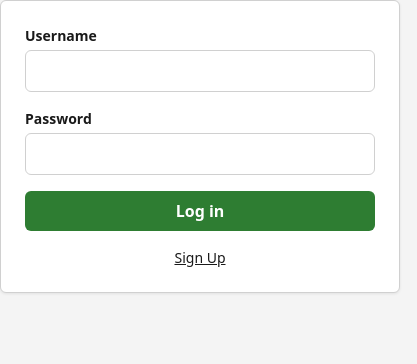
it: LoginForm (Step 13) › errors › on failure: shows the message from a 409 {error} body
The image size is (417, 364).
Type "admin" into the field labelled "Username" at point(200, 71), box [25,50,375,92]
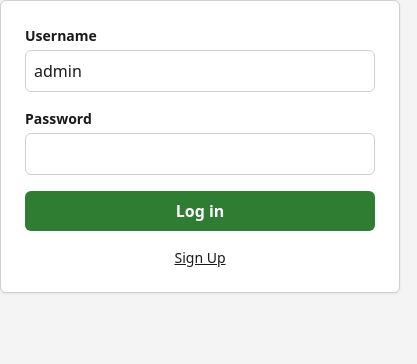
Type "password" into the password field labelled "Password" at point(200, 154), box [25,133,375,175]
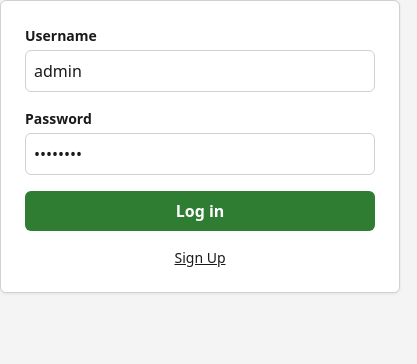
Click the button "Log in" at point(200, 211), box [25,191,375,231]
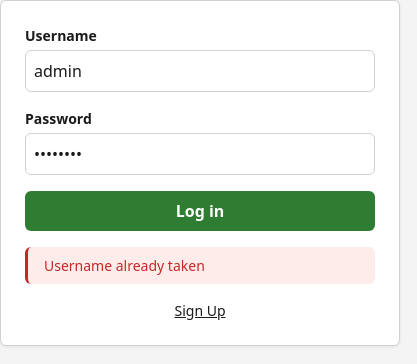
Expected: the list item "Username already taken" is shown, [44,256,205,275]
